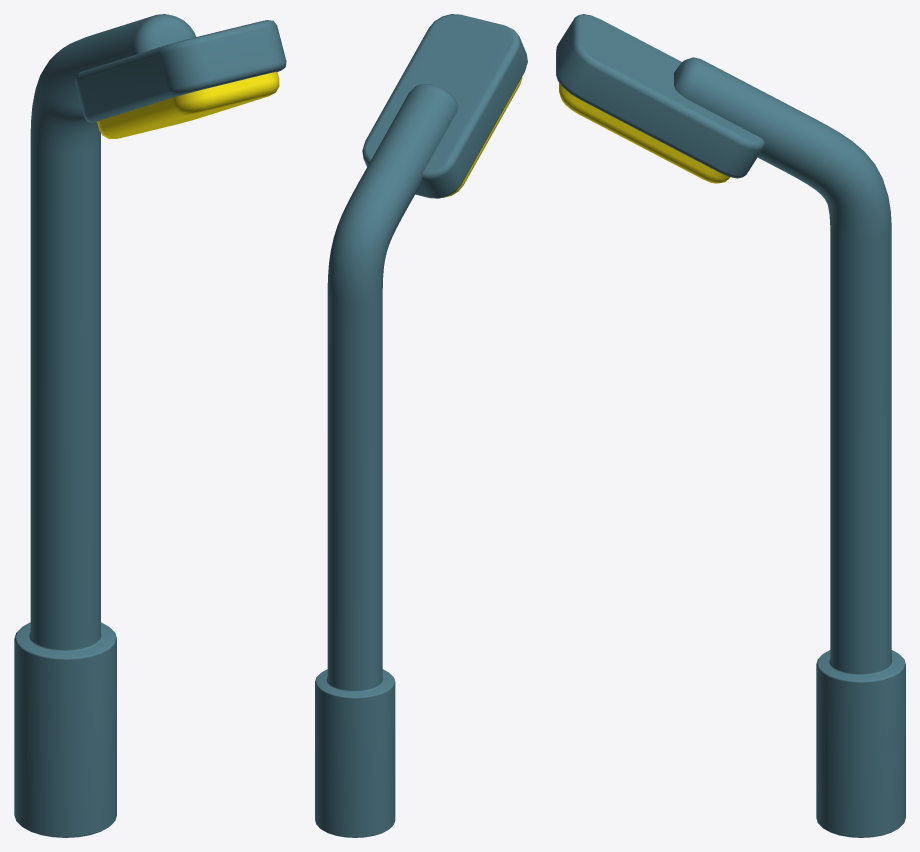
The model's file is City_13_Street_Lamp_1.glb.
The picture shows the model from 3 angles, left to right: view 1: azimuth 30°, elevation 25°; view 2: azimuth 150°, elevation 25°; view 3: azimuth 270°, elevation 25°; orthographic projection. The views are drawn at different scales.
Visible parts, largest first — view 1: City_13_Street_Lamp_1; view 2: City_13_Street_Lamp_1; view 3: City_13_Street_Lamp_1.
Boxes of the visible parts, left/top/right/bottom form: City_13_Street_Lamp_1: left=14, top=14, right=286, bottom=837; City_13_Street_Lamp_1: left=315, top=14, right=527, bottom=837; City_13_Street_Lamp_1: left=556, top=14, right=905, bottom=837.
Size of the model in its own units: 0.4663 by 3.52 by 1.41.
1 material, 1 textured.
